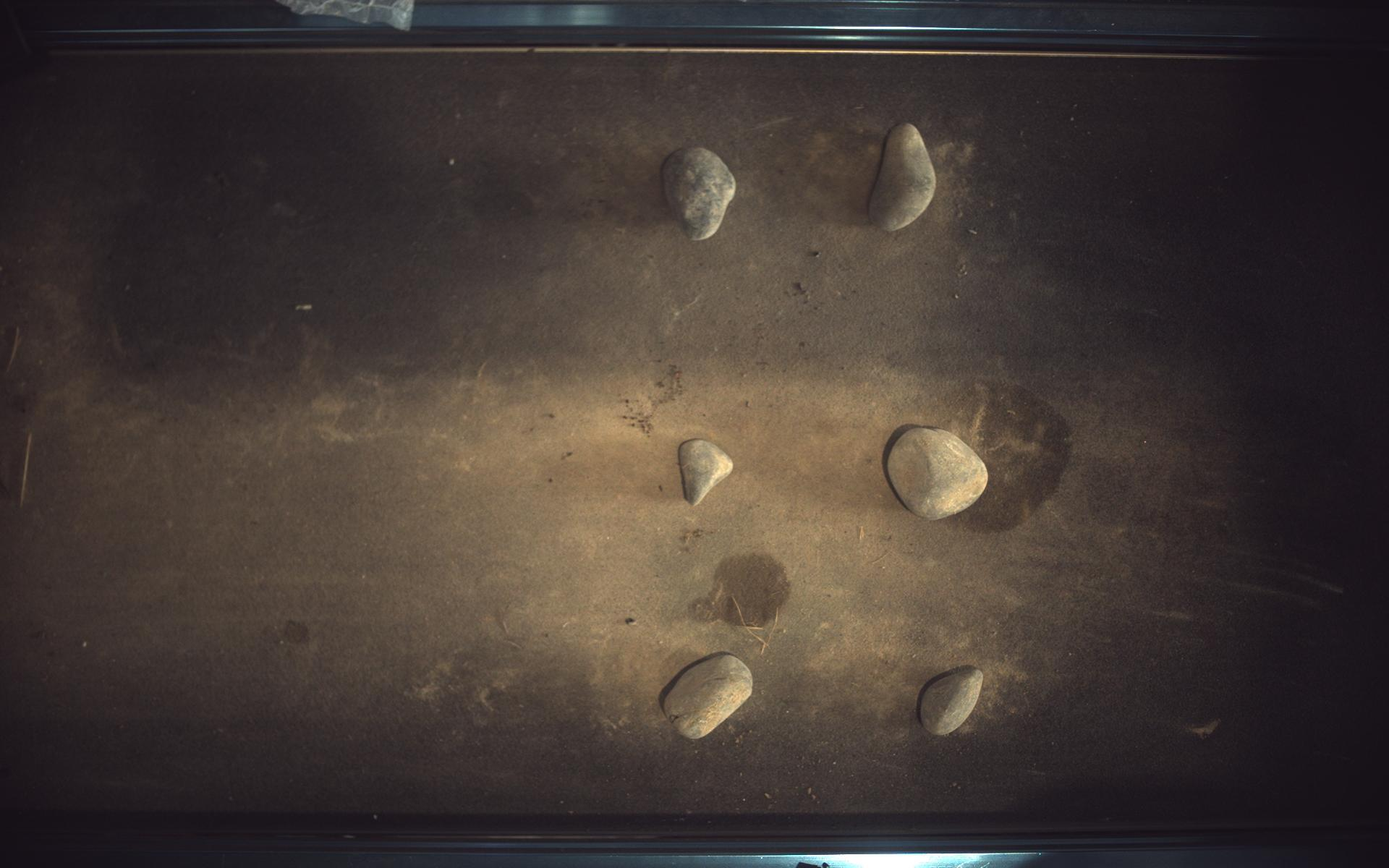stone: (888, 427, 989, 520), (664, 655, 754, 741), (871, 122, 938, 231), (662, 146, 737, 240), (920, 668, 985, 737), (679, 439, 734, 506)
